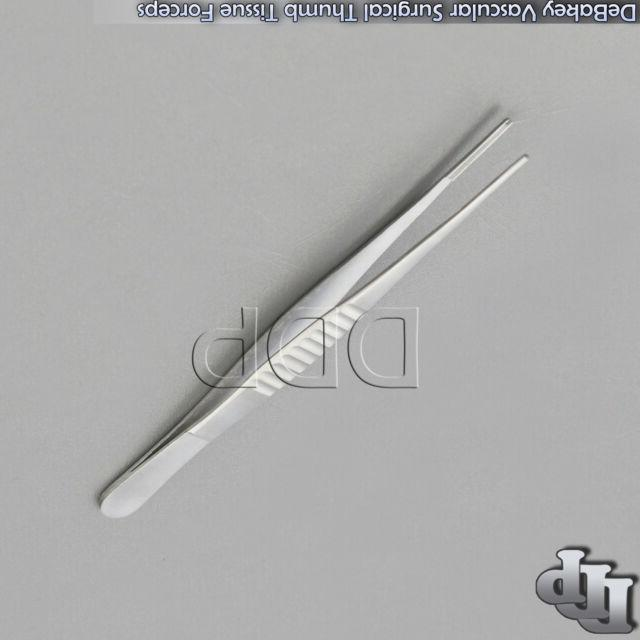Forceps: (92, 113, 532, 522)
